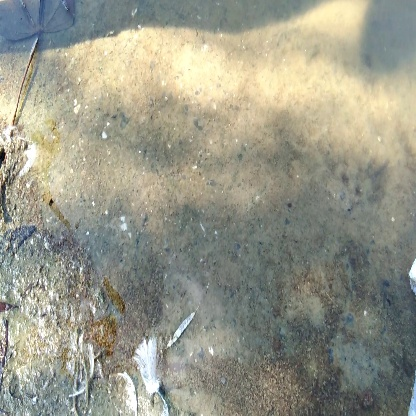branch: (11, 6, 75, 142)
